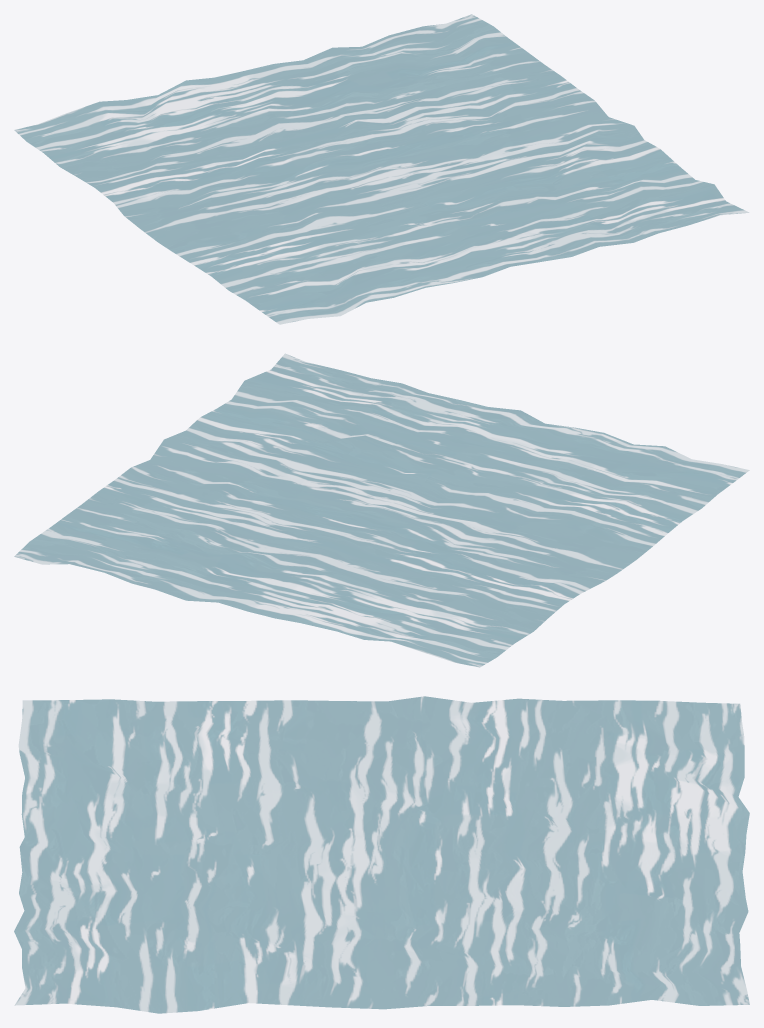
File: Water.glb
3 views of the same model, one above another, from view 1: azimuth 30°, elevation 25°; view 2: azimuth 150°, elevation 25°; view 3: azimuth 270°, elevation 25° (orthographic). The views are drawn at different scales.
Visible parts, largest first — view 1: Water; view 2: Water; view 3: Water.
Part boxes in pixels (x1=…): Water: x1=14, y1=14, x2=748, y2=324; Water: x1=14, y1=353, x2=749, y2=667; Water: x1=14, y1=696, x2=749, y2=1013.
Bounding box in the file's own units: 3.95 × 0.0838 × 3.95.
1 material, 1 textured.
